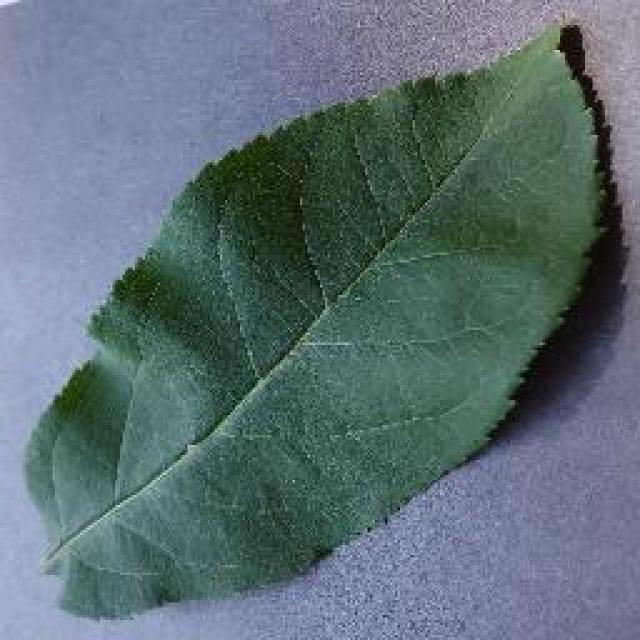apple healthy: (20, 18, 620, 620)
